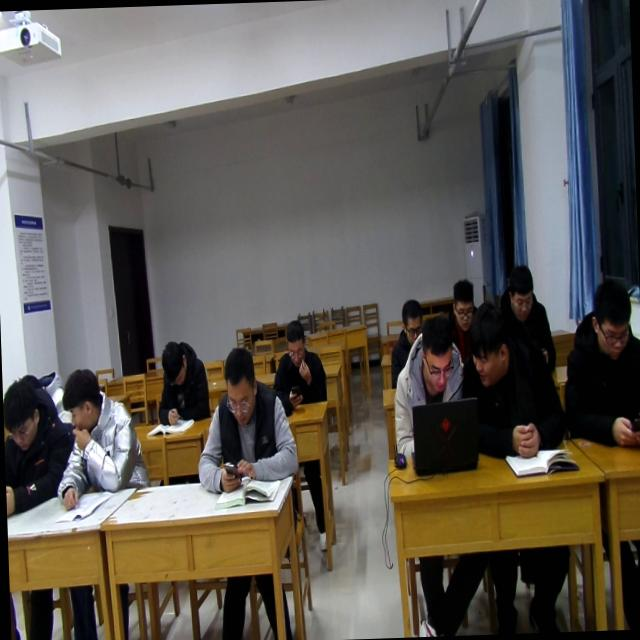down: (586, 273, 636, 359), (216, 343, 262, 432), (416, 308, 456, 395), (2, 374, 44, 456), (53, 488, 114, 526), (502, 262, 536, 324), (279, 313, 312, 369), (156, 336, 190, 389), (447, 274, 477, 332), (397, 292, 425, 344)
sit: (456, 298, 568, 462), (192, 342, 298, 498), (51, 362, 152, 512), (558, 271, 640, 447), (390, 308, 468, 470), (1, 369, 70, 518), (501, 260, 558, 374), (152, 332, 213, 426), (272, 314, 328, 411), (383, 296, 428, 391), (442, 276, 483, 358)
